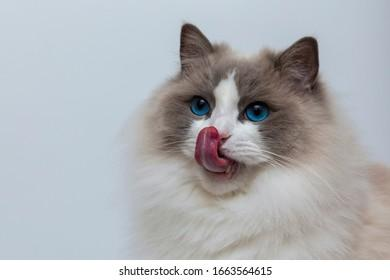ragdoll: (152, 13, 329, 219)
